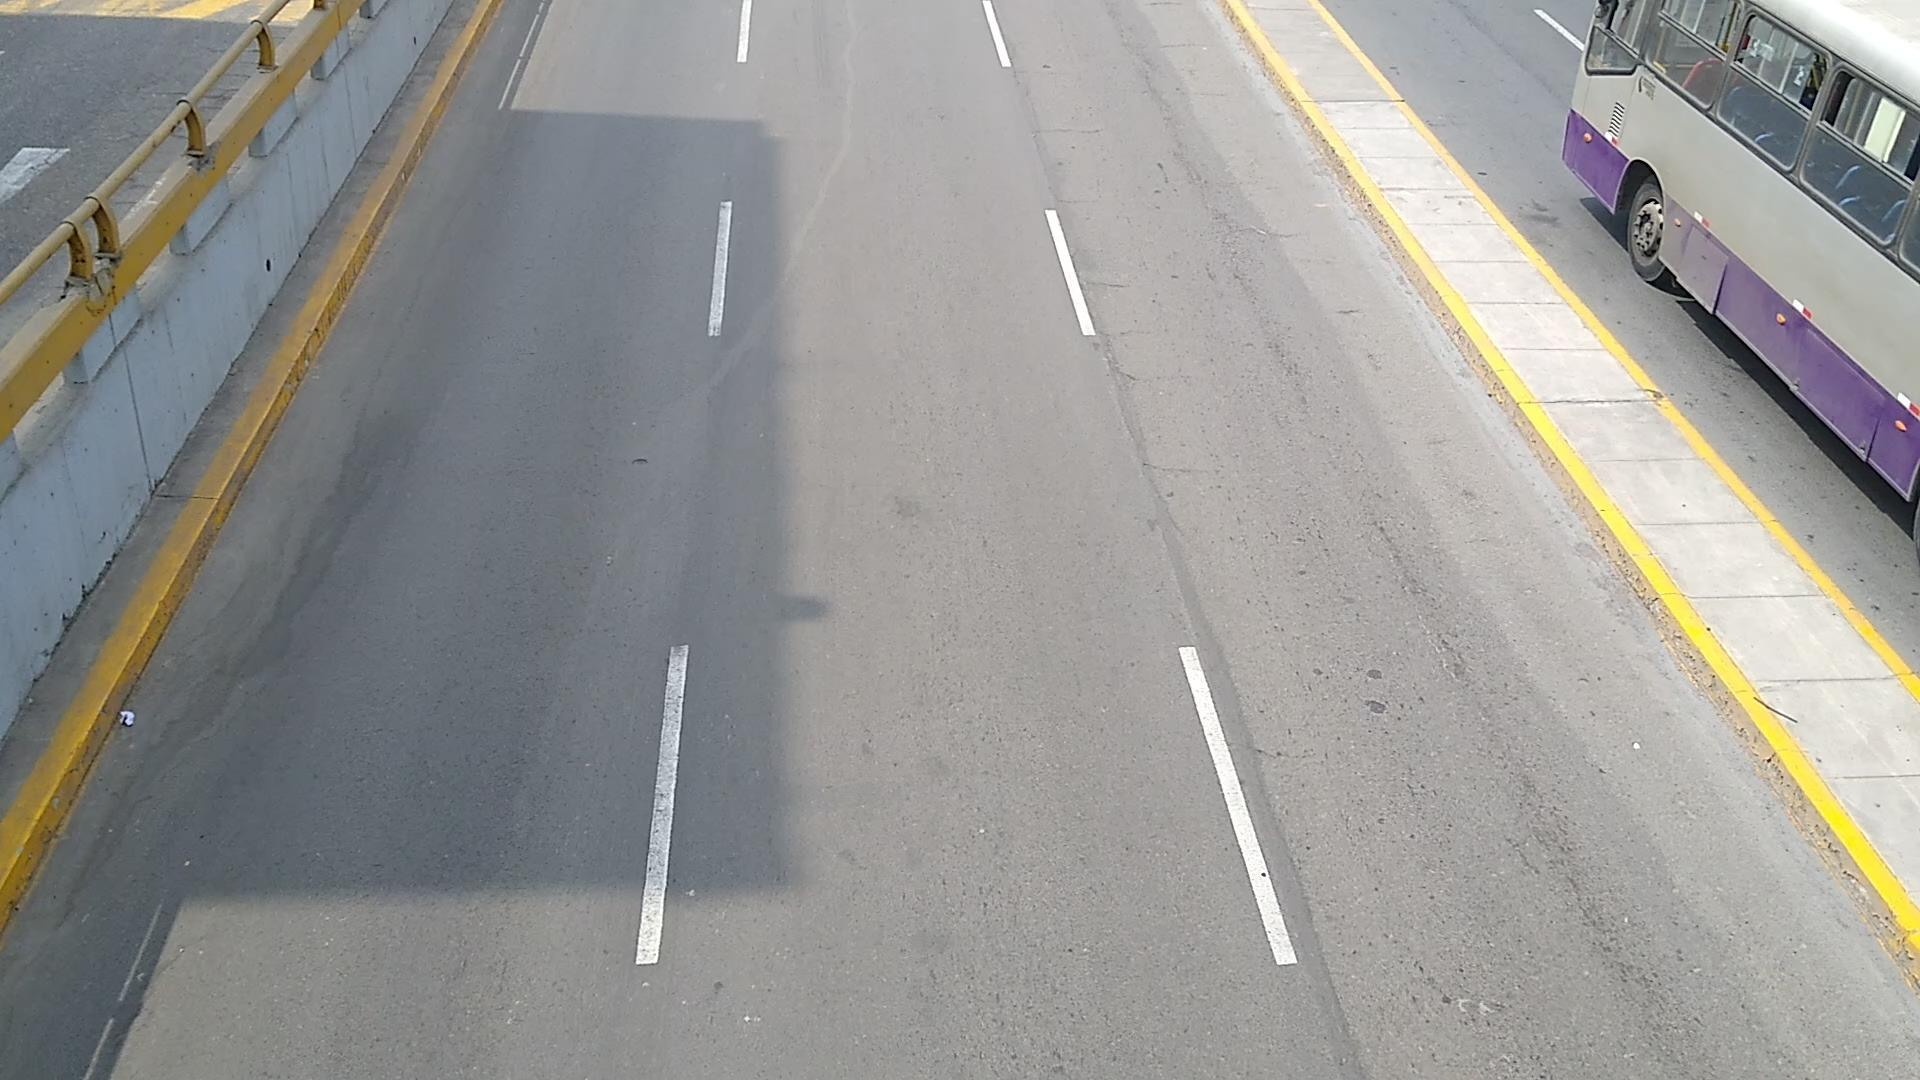bus: (1564, 0, 1920, 502)
